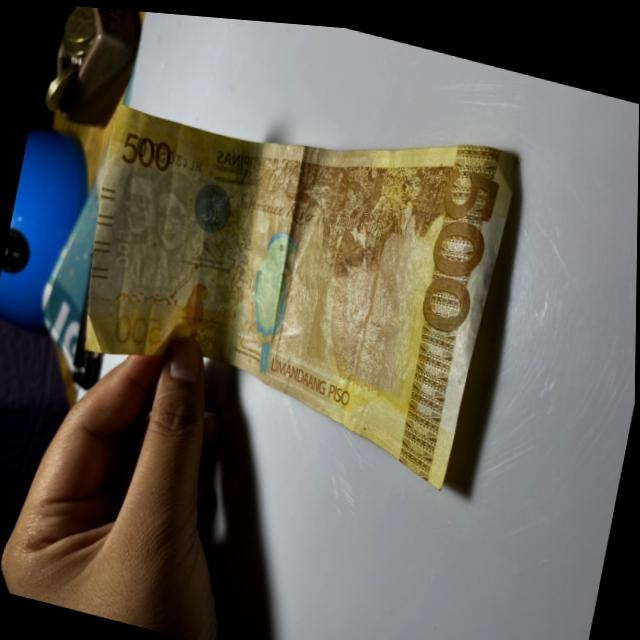500_big_parrot: (234, 218, 305, 376)
500_parrot_watermark: (178, 270, 213, 344)
value_watermark: (106, 222, 136, 271)
watermark: (110, 163, 205, 293)
